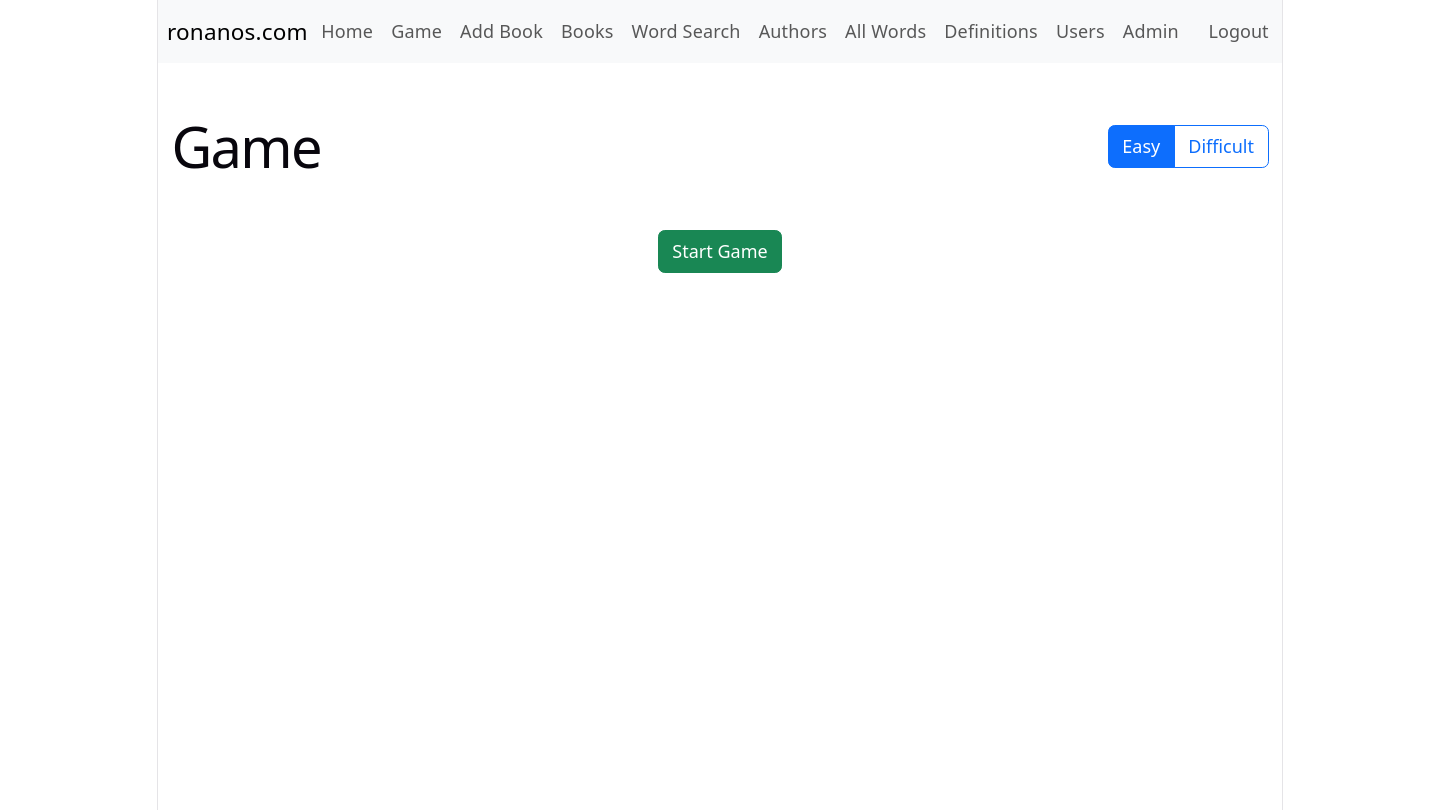
Scenario: Game › starts an easy game and marks the correct answer
Step 1. Click the button "Start Game" → click(720, 251), box [658,230,782,273]
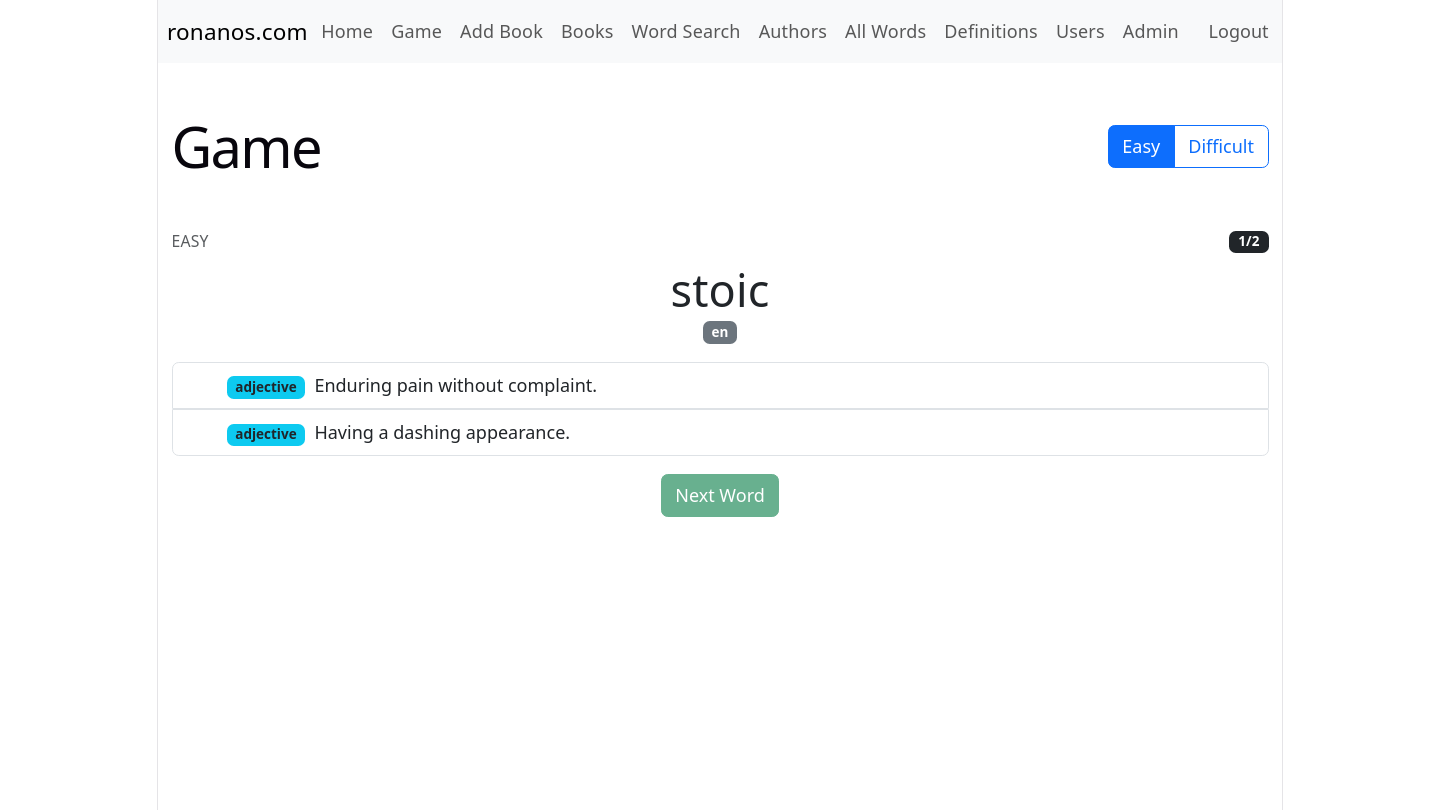
expect the text "stoic" is shown: met, box [670,259,770,320]
expect the text "1/2" is shown: met, box [1229,230,1268,253]
Step 2. Click the button "adjective Enduring pain without complaint." → click(266, 388), box [172,362,1268,409]
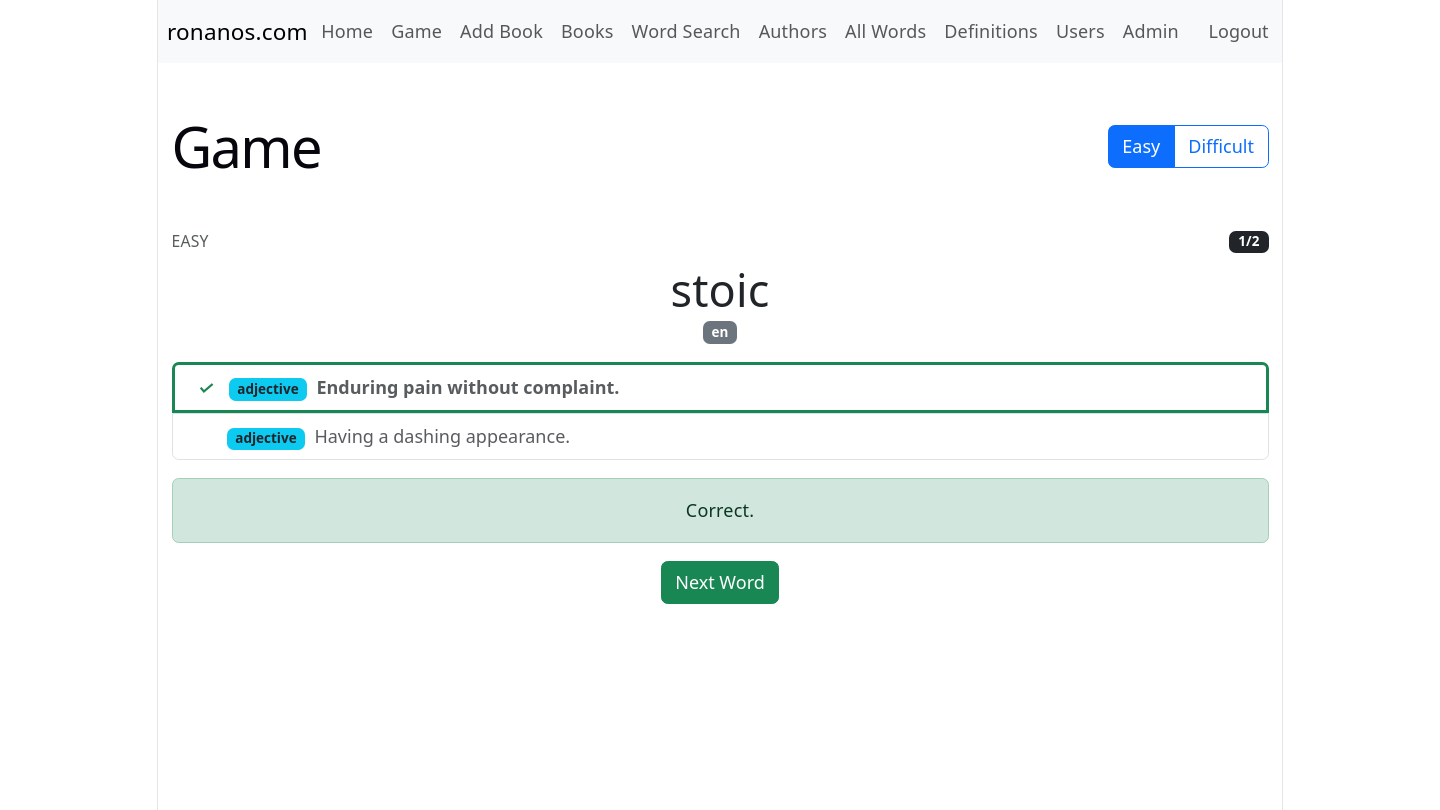
expect the text "Correct." is shown: met, box [172,478,1268,544]
expect the text named "Correct" is shown: met, box [198,374,214,401]
